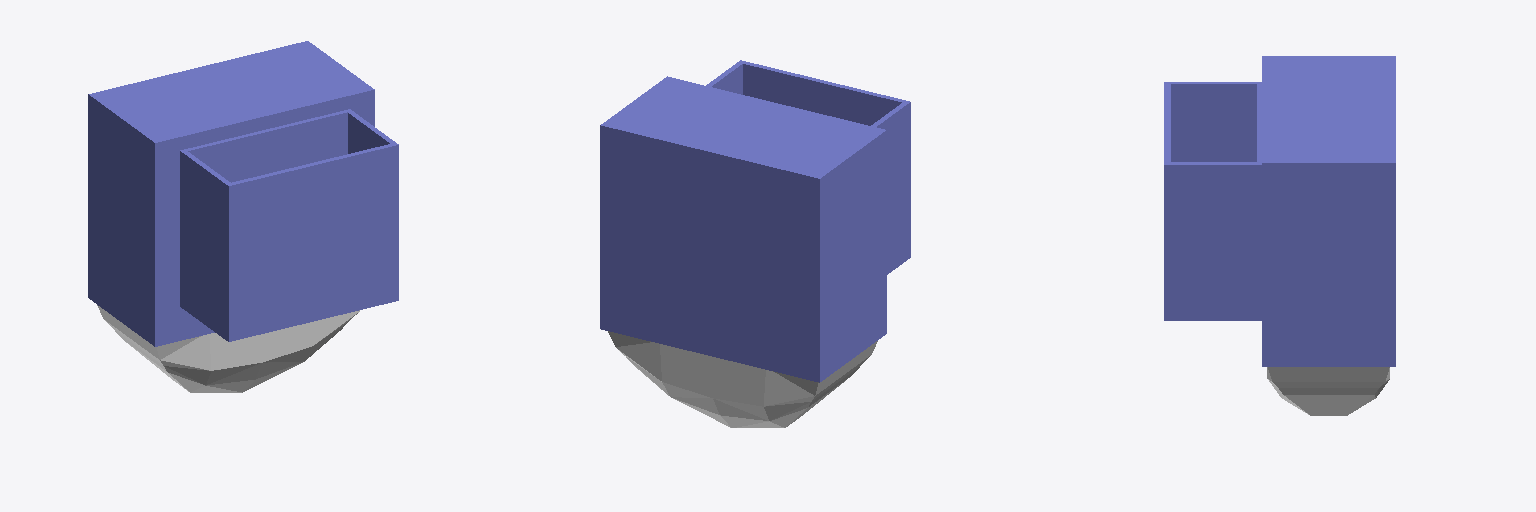
3 views of the same model, side by side, from view 1: azimuth 30°, elevation 25°; view 2: azimuth 150°, elevation 25°; view 3: azimuth 270°, elevation 25° (orthographic).
Visible parts, largest first — view 1: 立方体.012; view 2: 立方体.012; view 3: 立方体.012.
Boxes of the visible parts, x1=… form: 立方体.012: x1=88, y1=41, x2=398, y2=392; 立方体.012: x1=600, y1=60, x2=910, y2=427; 立方体.012: x1=1164, y1=56, x2=1395, y2=415.
Bounding box in the file's own units: 1.65 × 2.1 × 1.5.
Materials: 1 (1 with a texture image).